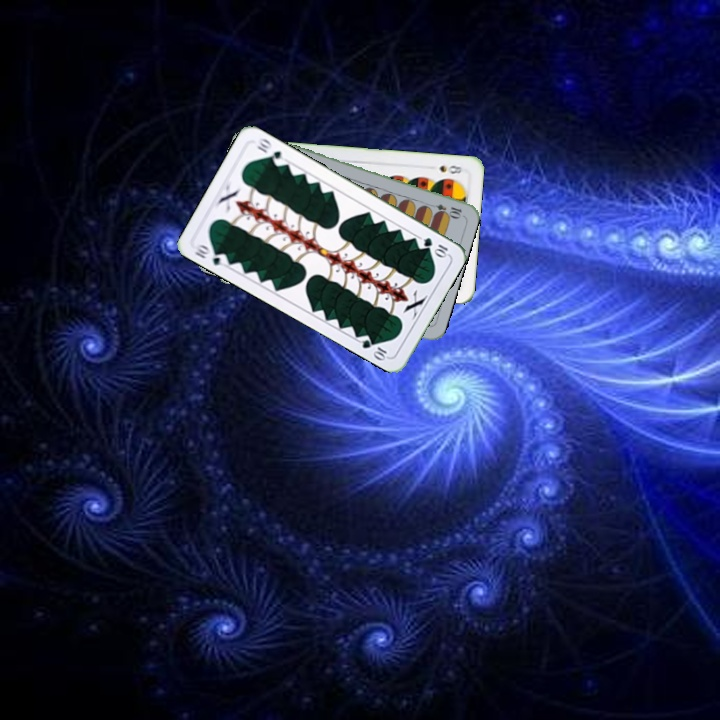E10: (424, 200, 464, 219)
G10: (191, 239, 231, 268), (419, 233, 451, 260)
S8: (436, 161, 465, 177)
